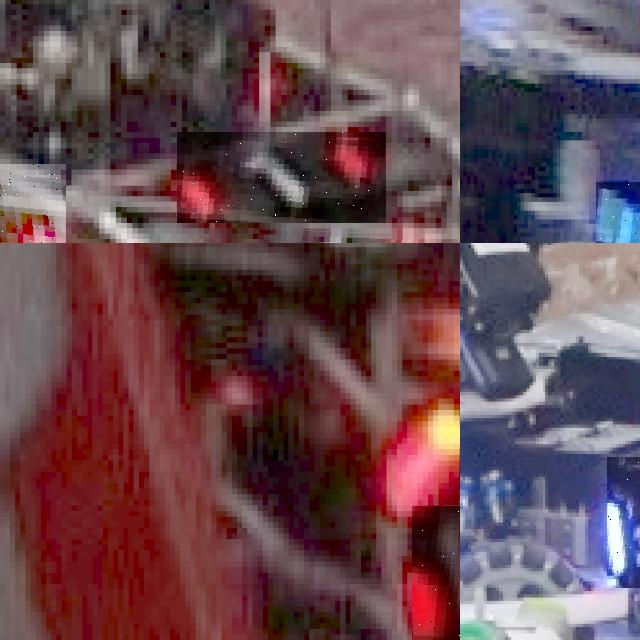B4: (606, 457, 640, 587)
R1: (177, 132, 386, 223), (412, 505, 460, 640), (0, 164, 66, 243)
